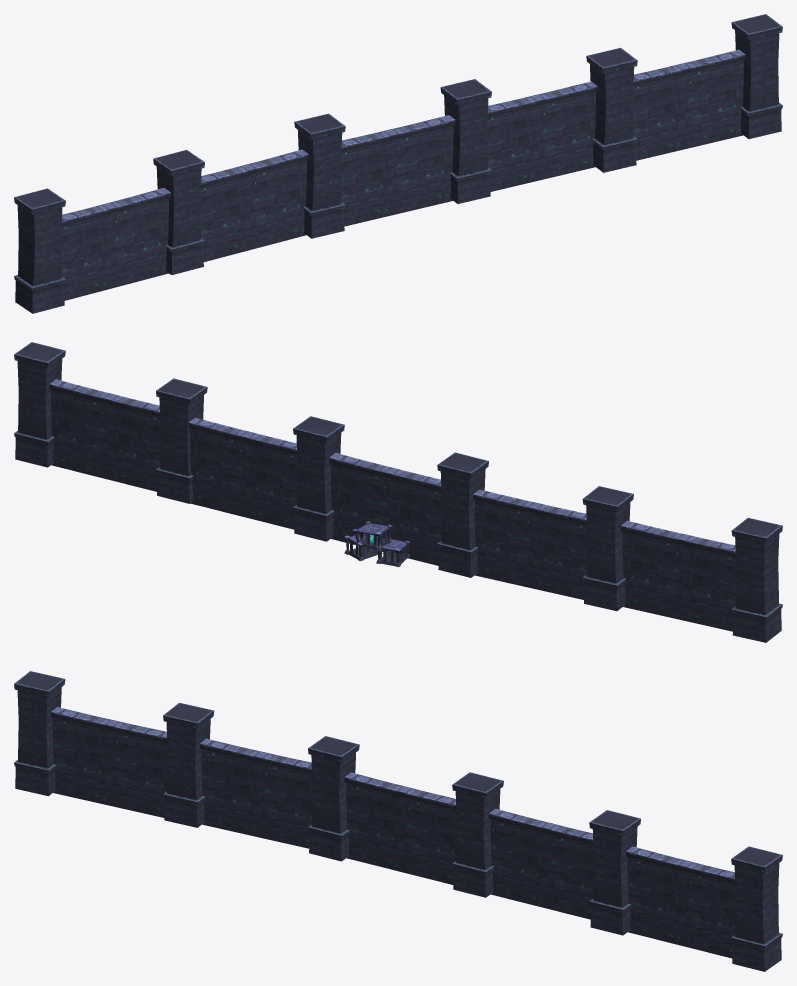
Rendered from Area13_3.fbx.
3 views of the same model, one above another, from view 1: azimuth 30°, elevation 25°; view 2: azimuth 150°, elevation 25°; view 3: azimuth 330°, elevation 25° (orthographic).
Visible parts, largest first — view 1: Area13_3; view 2: Area13_3; view 3: Area13_3.
Part boxes in pixels (left/top/right/bottom): Area13_3: left=14, top=14, right=782, bottom=313; Area13_3: left=14, top=342, right=782, bottom=642; Area13_3: left=14, top=671, right=782, bottom=971.
Bounding box in the file's own units: 4335 × 594 × 410.
